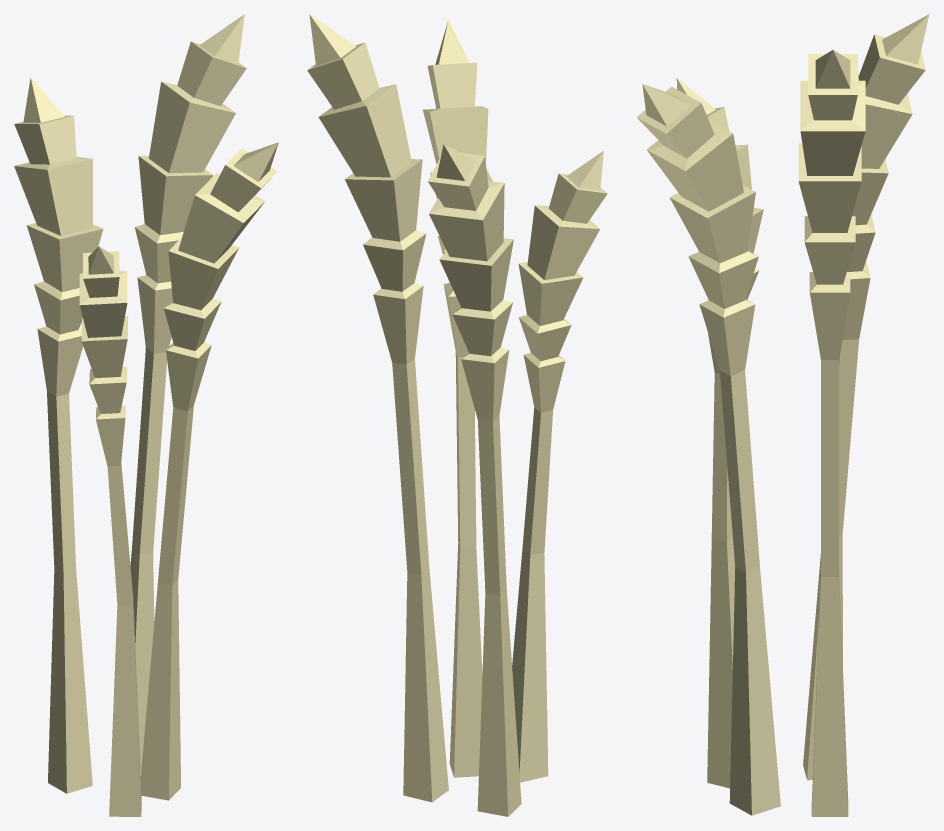
The model's file is fruit_seed.glb.
3 renders of one model, left to right at view 1: azimuth 30°, elevation 25°; view 2: azimuth 150°, elevation 25°; view 3: azimuth 270°, elevation 25°, orthographic. The views are drawn at different scales.
Parts seen in each view (by area): view 1: Wheat; view 2: Wheat; view 3: Wheat.
Boxes of the visible parts, <box> form: Wheat: <box>14,14,278,816</box>; Wheat: <box>307,14,607,816</box>; Wheat: <box>636,14,929,816</box>.
Size of the model in its own units: 51.94 by 160 by 51.75.
